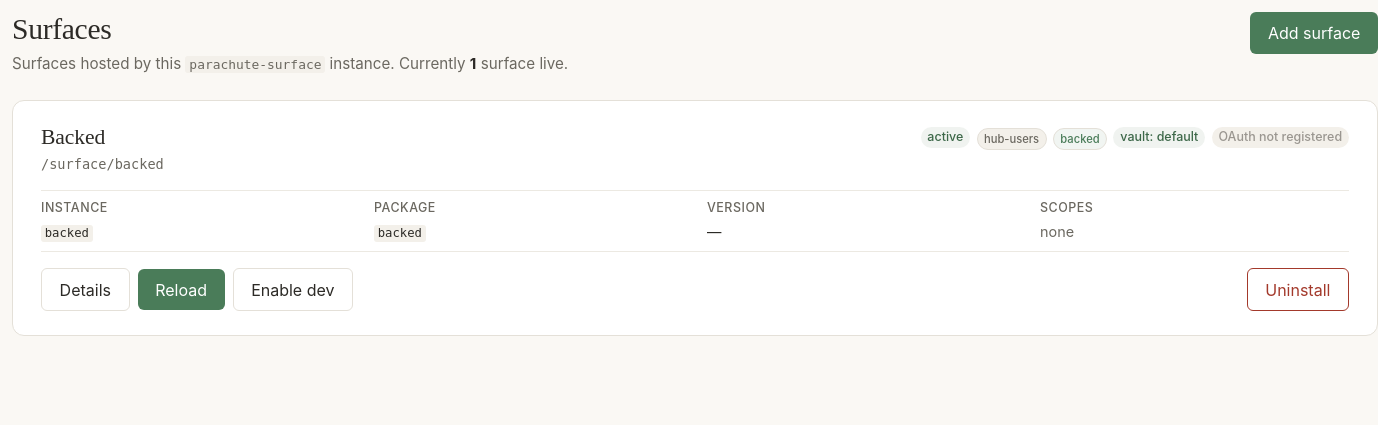
Scenario: Modules › uninstalling a backed surface tears down its hub connection FIRST, then the host removal
Click the button "Uninstall" at (1298, 290), box [1247,268,1349,312]
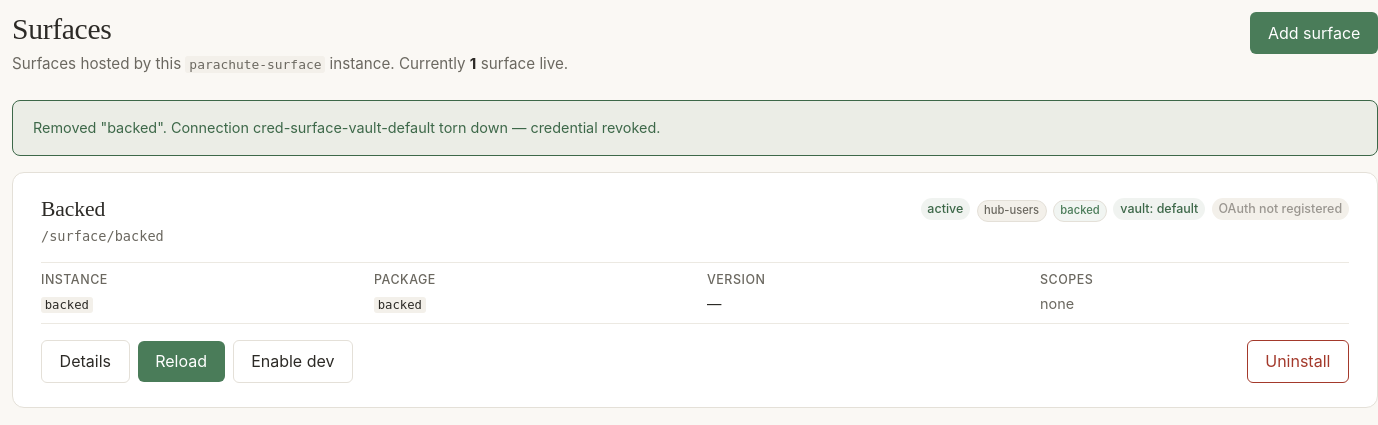
Expected: the link "/surface/backed" is shown, [41,226,164,246]
Result: the text "torn down — credential revoked" is shown at [33,119,660,136]
